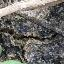Purslane: (0, 24, 33, 64)
